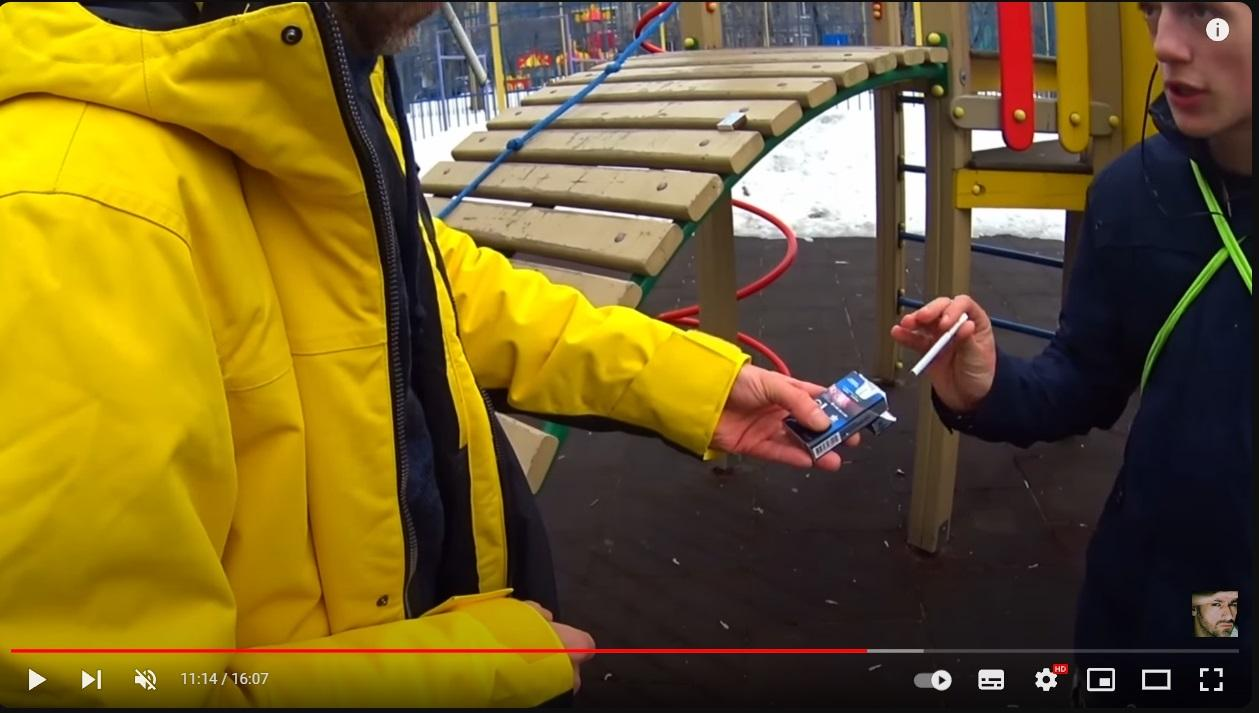cigarette: (910, 312, 970, 376)
